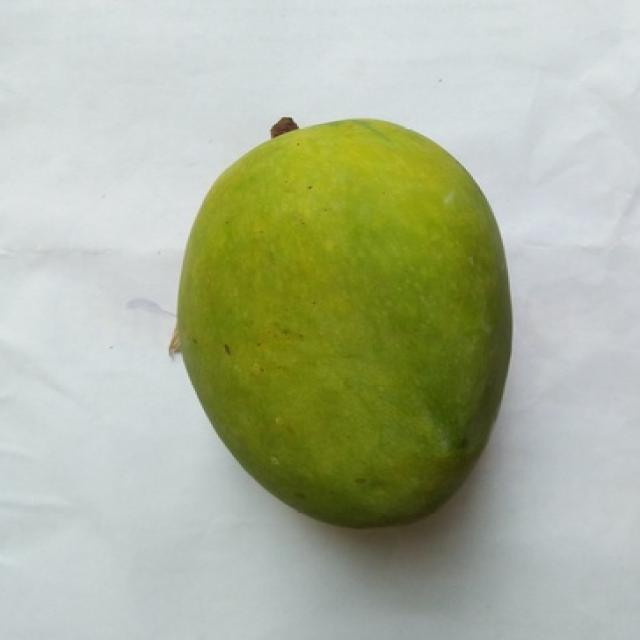Mango: (172, 120, 510, 524)
